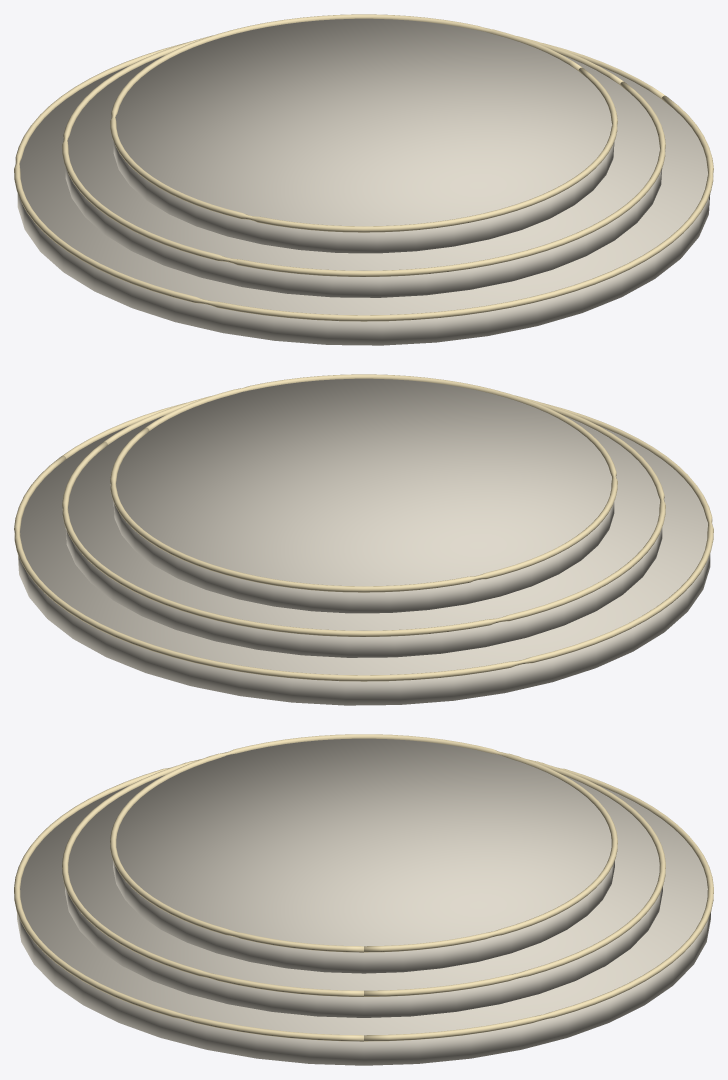
The model's file is ceremony-stage.glb.
3 views of the same model, one above another, from view 1: azimuth 30°, elevation 25°; view 2: azimuth 150°, elevation 25°; view 3: azimuth 270°, elevation 25° (orthographic).
Parts seen in each view (by area): view 1: stage-0, gold-trims-1; view 2: stage-0, gold-trims-1; view 3: stage-0, gold-trims-1.
Part boxes in pixels (x1=…): stage-0: x1=17, y1=18, x2=710, y2=345; gold-trims-1: x1=14, y1=14, x2=713, y2=321; stage-0: x1=17, y1=378, x2=710, y2=705; gold-trims-1: x1=14, y1=374, x2=713, y2=681; stage-0: x1=17, y1=738, x2=710, y2=1065; gold-trims-1: x1=14, y1=734, x2=713, y2=1041.
Size of the model in its own units: 3.93 by 0.488 by 3.93.
